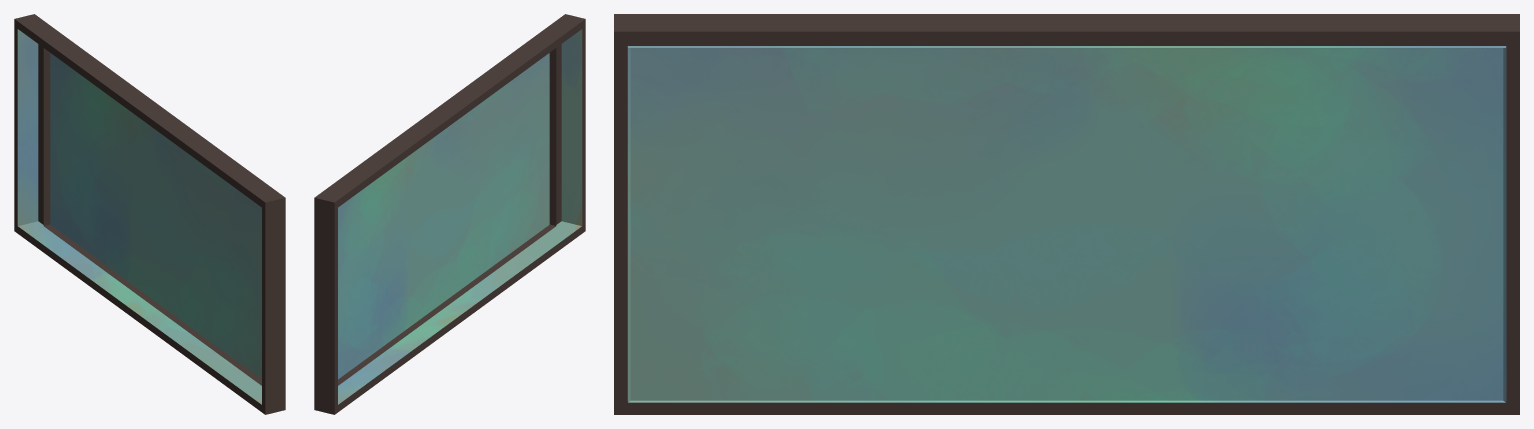
Rendered from painting.fbx.
3 renders of one model, left to right at view 1: azimuth 30°, elevation 25°; view 2: azimuth 150°, elevation 25°; view 3: azimuth 270°, elevation 25°, orthographic. The views are drawn at different scales.
Visible parts, largest first — view 1: Cube; view 2: Cube; view 3: Cube.
Part boxes in pixels (left/top/right/bottom): Cube: left=14, top=14, right=285, bottom=414; Cube: left=314, top=14, right=585, bottom=414; Cube: left=614, top=14, right=1519, bottom=414.
Size of the model in its own units: 64.64 by 587 by 1257.
1 material, 1 textured.
